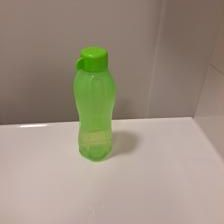bottle: (72, 43, 121, 161)
